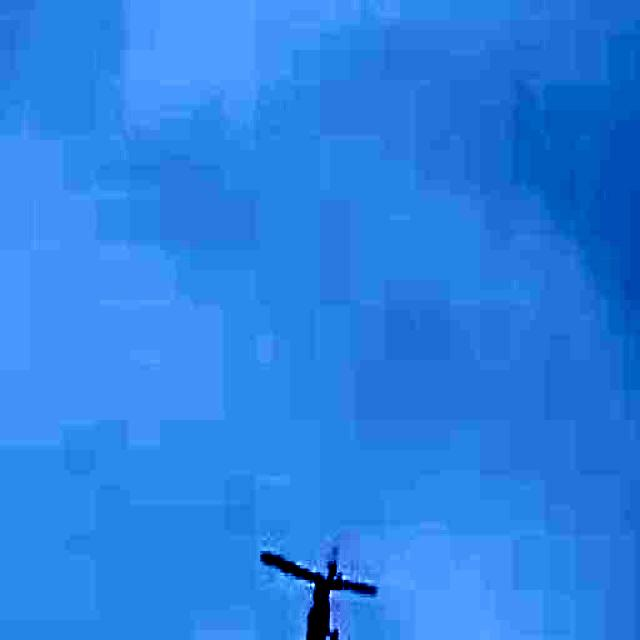drone: (262, 538, 378, 640)
